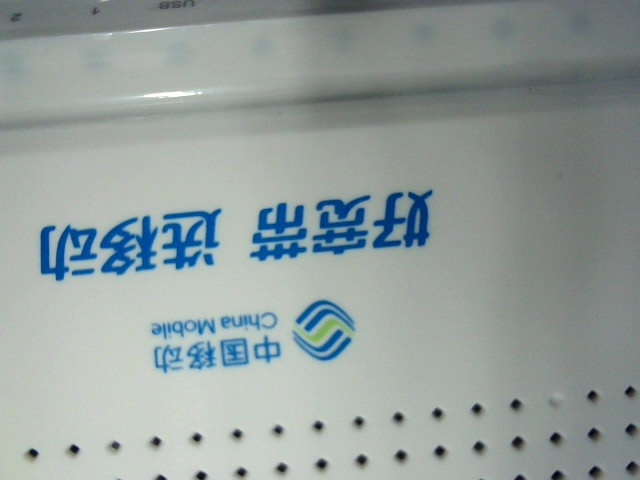AA_ChinaMoble: (14, 191, 440, 372)
